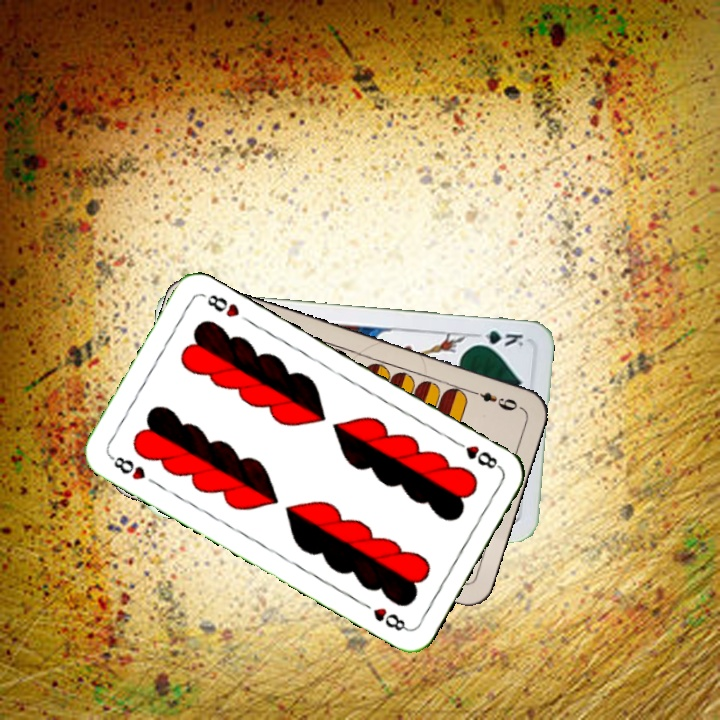E9: (466, 386, 523, 414)
GK: (469, 327, 526, 349)
H8: (449, 436, 504, 472), (105, 451, 149, 483)
